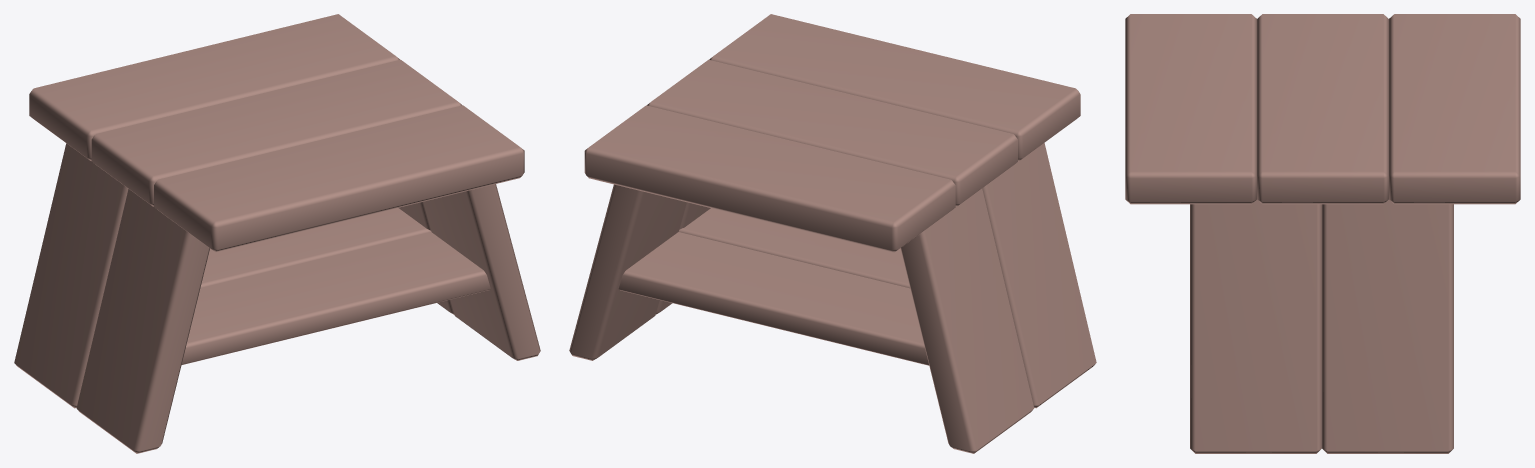
Rendered from Store_6_Chair_1.glb.
3 views of the same model, side by side, from view 1: azimuth 30°, elevation 25°; view 2: azimuth 150°, elevation 25°; view 3: azimuth 270°, elevation 25° (orthographic). The views are drawn at different scales.
Parts seen in each view (by area): view 1: Store_6_Chair_1; view 2: Store_6_Chair_1; view 3: Store_6_Chair_1.
Part boxes in pixels (box(x1,y1,x2,y2)): Store_6_Chair_1: box(14, 14, 540, 453); Store_6_Chair_1: box(569, 14, 1096, 453); Store_6_Chair_1: box(1125, 14, 1520, 453).
Bounding box in the file's own units: 0.9488 × 0.542 × 0.754.
1 material, 1 textured.
